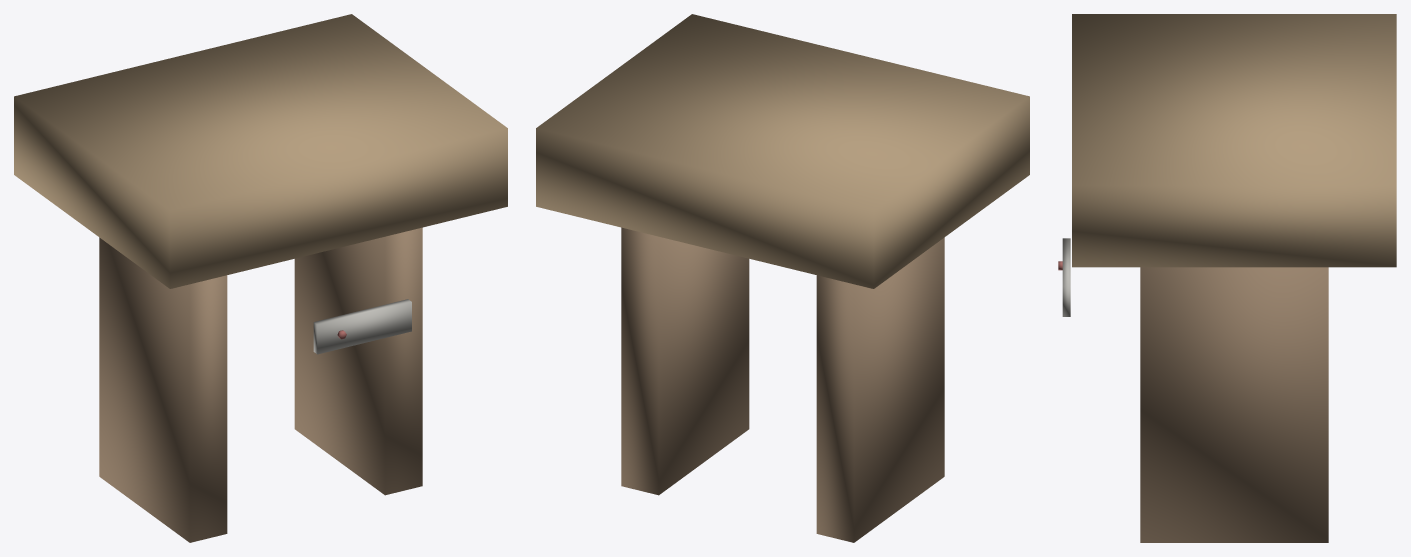
The model's file is butcher_block.glb.
3 views of the same model, side by side, from view 1: azimuth 30°, elevation 25°; view 2: azimuth 150°, elevation 25°; view 3: azimuth 270°, elevation 25° (orthographic). The views are drawn at different scales.
Parts seen in each view (by area): view 1: world; view 2: world; view 3: world.
Boxes of the visible parts, <box> form: world: <box>14,14,507,542</box>; world: <box>536,14,1029,542</box>; world: <box>1058,14,1396,542</box>.
Size of the model in its own units: 0.9 by 0.94 by 0.751.
